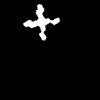single_crochet: (24, 4, 58, 39)
